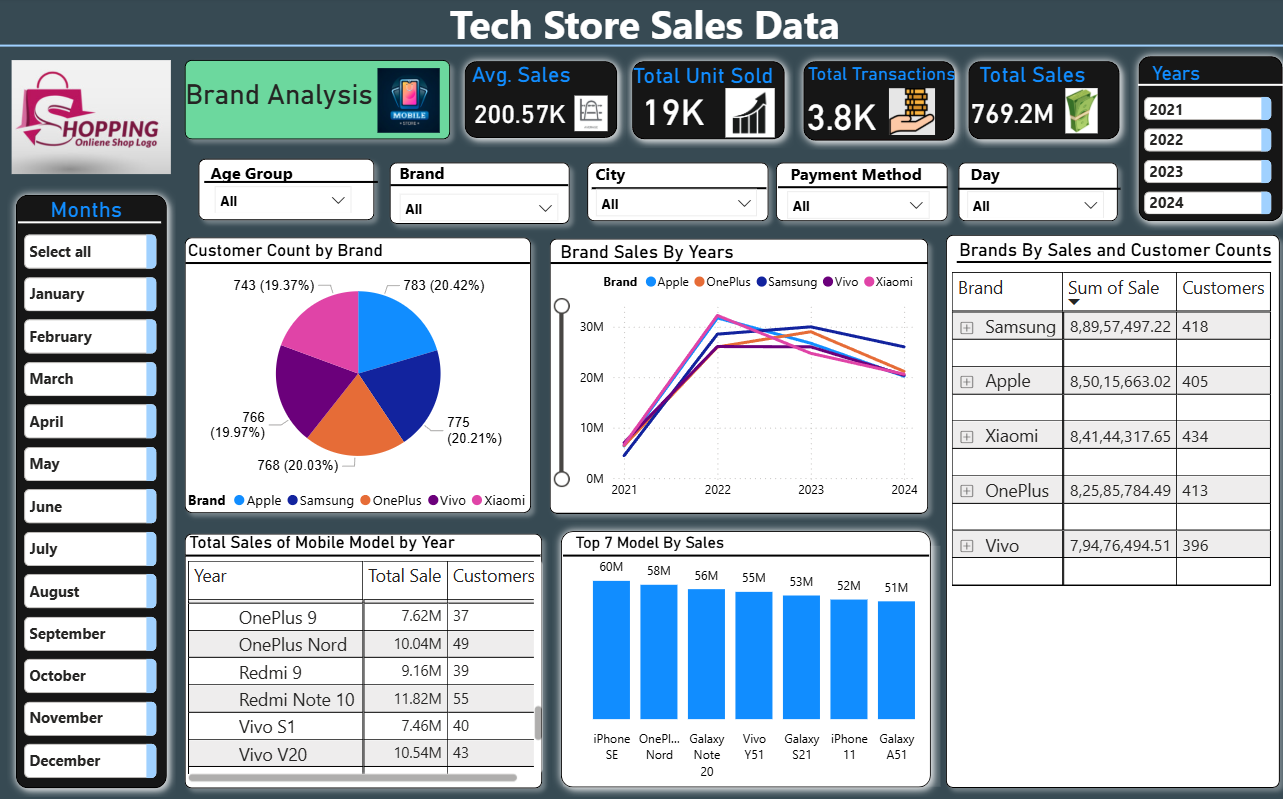

Layout of this report page (visuals, bound fields, positions):
{"tool":"powerbi","page":{"name":"Brand Analysis","canvas":[1280,800],"ordinal":2},"visuals":[{"type":"shape","title":"Tech Store Sales Data","box":[0,0,1280,53.7],"z":0},{"type":"shape","box":[0,27.4,1280,41.8],"z":1000},{"type":"image","box":[8.2,54.9,167.4,129],"z":2000},{"type":"shape","title":"Months","box":[8.2,186.6,167.4,605.1],"z":3000},{"type":"advancedSlicerVisual","fields":{"Values":["Mobile Sales Data.Date.Variation.Date Hierarchy.Month"]},"box":[20.6,230.5,141.3,551.6],"z":4000},{"type":"shape","title":"Months","box":[52.5,198,109.7,32.2],"z":5000},{"type":"shape","box":[20.3,214.7,142,15.5],"z":6000},{"type":"shape","box":[175.6,521.4,371.9,270.3],"z":7000},{"type":"shape","box":[175.9,53.2,280.8,96.8],"z":8000},{"type":"shape","box":[175.6,229.2,360.9,290.9],"z":9000},{"type":"shape","box":[189.5,151.3,192.2,79.1],"z":10000},{"type":"shape","title":"Months","box":[619,54.5,169.1,95.4],"z":11000},{"type":"shape","title":"Months","box":[1119.3,49.1,160.9,181.3],"z":12000},{"type":"card","fields":{"Values":["Sum(Mobile Sales Data.Units Sold)"]},"box":[627.1,77.7,81.8,66.8],"z":13000},{"type":"image","box":[703.5,85.9,80.4,58.6],"z":14000},{"type":"shape","title":"Total Unit Sold","box":[628.5,65.4,150,28.6],"z":15000},{"type":"shape","title":"Months","box":[788,54.5,167.7,96.8],"z":16000},{"type":"card","fields":{"Values":["Count(Mobile Sales Data.Transaction ID)"]},"box":[788,88.6,94.1,53.2],"z":17000},{"type":"image","box":[872.5,85.9,64.1,55.9],"z":18000},{"type":"shape","title":"Total Transactions","box":[801.6,65.4,150,21.8],"z":19000},{"type":"shape","title":"Months","box":[951.6,54.5,167.7,95.4],"z":20000},{"type":"card","fields":{"Values":["Sum(Mobile Sales Data.Sale)"]},"box":[951.6,87.3,105,53.2],"z":21000},{"type":"shape","title":"Total Sales","box":[970.7,64.1,150,21.8],"z":22000},{"type":"image","box":[1037.5,85.9,69.5,54.5],"z":23000},{"type":"slicer","fields":{"Values":["Mobile Sales Data.Age Group"]},"box":[204.5,177.2,155.4,36.8],"z":24000},{"type":"shape","title":"Months","box":[547.5,520.1,384.2,271.7],"z":25000},{"type":"shape","title":"Age Group","box":[210,162.2,151.3,24.5],"z":26000},{"type":"shape","box":[204.5,177.2,171.8,12.3],"z":27000},{"type":"shape","box":[379,154.1,196.3,79.1],"z":28000},{"type":"shape","title":"Brand","box":[396.7,162.2,150,24.5],"z":29000},{"type":"shape","box":[388.6,180,175.9,13.6],"z":30000},{"type":"slicer","fields":{"Values":["Mobile Sales Data.Brand"]},"box":[387.2,184.1,177.2,38.2],"z":31000},{"type":"shape","box":[574,154.1,197.7,76.3],"z":32000},{"type":"shape","title":"City","box":[591.7,163.6,151.3,24.5],"z":33000},{"type":"shape","box":[587.6,182.7,173.1,12.3],"z":34000},{"type":"slicer","fields":{"Values":["Mobile Sales Data.City"]},"box":[580.8,180,180,42.3],"z":35000},{"type":"shape","box":[760.7,154.1,188.1,76.3],"z":36000},{"type":"shape","title":"Payment Method","box":[783.9,163.6,150,24.5],"z":37000},{"type":"shape","box":[771.6,180,167.7,17.7],"z":38000},{"type":"slicer","fields":{"Values":["Mobile Sales Data.Payment Method"]},"box":[770.3,181.3,160.9,45],"z":39000},{"type":"shape","box":[940.7,154.1,175.9,76.3],"z":40000},{"type":"shape","title":"Day","box":[962.5,163.6,84.5,25.9],"z":41000},{"type":"shape","box":[950.2,184.1,160.9,10.9],"z":42000},{"type":"slicer","fields":{"Values":["Mobile Sales Data.Day_Name_Cleaned"]},"box":[948.9,181.3,155.4,36.8],"z":43000},{"type":"advancedSlicerVisual","fields":{"Values":["Mobile Sales Data.Year"]},"box":[1128.8,94.1,136.3,128.2],"z":44000},{"type":"shape","title":"Years","box":[1141.1,64.1,75,21.8],"z":45000},{"type":"shape","box":[1128.5,78.7,144.3,15.5],"z":46000},{"type":"pieChart","fields":{"Category":["Mobile Sales Data.Brand"],"Y":["CountNonNull(Mobile Sales Data.Customer Name)"]},"box":[182.5,258,347.2,258],"z":47000},{"type":"shape","title":"Customer Count by Brand","box":[188.1,239.9,302.7,23.2],"z":48000},{"type":"shape","box":[185.4,252.2,340.8,21.8],"z":49000},{"type":"shape","box":[929,226.4,348.5,565.4],"z":50000},{"type":"shape","title":"Brands By Sales and Customer Counts","box":[950.9,240.1,315.6,20.6],"z":51000},{"type":"shape","title":"Top 7 Model By Sales","box":[570.8,531,230.5,23.3],"z":52000},{"type":"shape","title":"Brand Analysis","box":[185.2,81,193.5,30.2],"z":53000},{"type":"clusteredColumnChart","fields":{"Y":["Sum(Mobile Sales Data.Sale)"],"Category":["Mobile Sales Data.Mobile Model"]},"box":[558.5,543.4,373.2,238.8],"z":54000},{"type":"pivotTable","fields":{"Rows":["Mobile Sales Data.Brand","Mobile Sales Data.Mobile Model"],"Values":["Sum(Mobile Sales Data.Sale)","Mobile Sales Data.Customers"]},"box":[938.6,267.6,336.2,514.6],"z":55000},{"type":"shape","box":[537.2,230.4,392.6,290.4],"z":56000},{"type":"shape","title":"Months","box":[452.6,54.5,169.1,94.1],"z":57000},{"type":"shape","title":"Avg. Sales","box":[469,64.1,150,28.6],"z":58000},{"type":"card","fields":{"Values":["Avg(Mobile Sales Data.Sale)"]},"box":[462.2,81.8,107.7,66.8],"z":59000},{"type":"image","box":[564.4,92.7,46.4,45],"z":60000},{"type":"shape","title":"Brand Sales By Years","box":[557.1,241.5,329.3,22],"z":61000},{"type":"lineChart","fields":{"Category":["Mobile Sales Data.Date.Variation.Date Hierarchy.Year"],"Y":["Sum(Mobile Sales Data.Sale)"],"Series":["Mobile Sales Data.Brand"]},"box":[546.7,261.8,368.1,244],"z":62000},{"type":"shape","box":[546.7,252.2,373.6,21.8],"z":63000},{"type":"shape","box":[948.2,256.6,311.5,12.3],"z":64000},{"type":"shape","box":[558.5,542,362.3,22],"z":65000},{"type":"pivotTable","fields":{"Rows":["Mobile Sales Data.Date.Variation.Date Hierarchy.Year","Mobile Sales Data.Mobile Model"],"Values":["Mobile Sales Data.Total Sale","Mobile Sales Data.Customers"]},"box":[182.5,553,360.9,229.2],"z":66000},{"type":"shape","title":"Total Sales of Mobile Model by Year","box":[189.4,529.7,286.8,23.3],"z":67000},{"type":"shape","box":[185.2,542,351.3,22],"z":68000},{"type":"image","box":[358.1,65.9,94.7,74.1],"z":69000}]}

Visuals, with their boxes in screenshot pixels (x1, y1, x2, y2), scaled from the page's 1280x800 canvas onto the 1283x799 screenshot:
"Tech Store Sales Data" shape: [left=0, top=0, right=1282, bottom=54]
shape: [left=0, top=27, right=1282, bottom=69]
image: [left=8, top=55, right=176, bottom=184]
"Months" shape: [left=8, top=186, right=176, bottom=791]
advancedSlicerVisual - Mobile Sales Data.Date.Variation.Date Hierarchy.Month: [left=21, top=230, right=162, bottom=781]
"Months" shape: [left=53, top=198, right=163, bottom=230]
shape: [left=20, top=214, right=163, bottom=230]
shape: [left=176, top=521, right=549, bottom=791]
shape: [left=176, top=53, right=458, bottom=150]
shape: [left=176, top=229, right=538, bottom=519]
shape: [left=190, top=151, right=383, bottom=230]
"Months" shape: [left=620, top=54, right=790, bottom=150]
"Months" shape: [left=1122, top=49, right=1282, bottom=230]
card - Sum(Mobile Sales Data.Units Sold): [left=629, top=78, right=711, bottom=144]
image: [left=705, top=86, right=786, bottom=144]
"Total Unit Sold" shape: [left=630, top=65, right=780, bottom=94]
"Months" shape: [left=790, top=54, right=958, bottom=151]
card - Count(Mobile Sales Data.Transaction ID): [left=790, top=88, right=884, bottom=142]
image: [left=875, top=86, right=939, bottom=142]
"Total Transactions" shape: [left=803, top=65, right=954, bottom=87]
"Months" shape: [left=954, top=54, right=1122, bottom=150]
card - Sum(Mobile Sales Data.Sale): [left=954, top=87, right=1059, bottom=140]
"Total Sales" shape: [left=973, top=64, right=1123, bottom=86]
image: [left=1040, top=86, right=1110, bottom=140]
slicer - Mobile Sales Data.Age Group: [left=205, top=177, right=361, bottom=214]
"Months" shape: [left=549, top=519, right=934, bottom=791]
"Age Group" shape: [left=210, top=162, right=362, bottom=186]
shape: [left=205, top=177, right=377, bottom=189]
shape: [left=380, top=154, right=577, bottom=233]
"Brand" shape: [left=398, top=162, right=548, bottom=186]
shape: [left=390, top=180, right=566, bottom=193]
slicer - Mobile Sales Data.Brand: [left=388, top=184, right=566, bottom=222]
shape: [left=575, top=154, right=774, bottom=230]
"City" shape: [left=593, top=163, right=745, bottom=188]
shape: [left=589, top=182, right=762, bottom=195]
slicer - Mobile Sales Data.City: [left=582, top=180, right=763, bottom=222]
shape: [left=762, top=154, right=951, bottom=230]
"Payment Method" shape: [left=786, top=163, right=936, bottom=188]
shape: [left=773, top=180, right=942, bottom=197]
slicer - Mobile Sales Data.Payment Method: [left=772, top=181, right=933, bottom=226]
shape: [left=943, top=154, right=1119, bottom=230]
"Day" shape: [left=965, top=163, right=1049, bottom=189]
shape: [left=952, top=184, right=1114, bottom=195]
slicer - Mobile Sales Data.Day_Name_Cleaned: [left=951, top=181, right=1107, bottom=218]
advancedSlicerVisual - Mobile Sales Data.Year: [left=1131, top=94, right=1268, bottom=222]
"Years" shape: [left=1144, top=64, right=1219, bottom=86]
shape: [left=1131, top=79, right=1276, bottom=94]
pieChart - Mobile Sales Data.Brand x CountNonNull(Mobile Sales Data.Customer Name): [left=183, top=258, right=531, bottom=515]
"Customer Count by Brand" shape: [left=189, top=240, right=492, bottom=263]
shape: [left=186, top=252, right=527, bottom=274]
shape: [left=931, top=226, right=1280, bottom=791]
"Brands By Sales and Customer Counts" shape: [left=953, top=240, right=1269, bottom=260]
"Top 7 Model By Sales" shape: [left=572, top=530, right=803, bottom=554]
"Brand Analysis" shape: [left=186, top=81, right=380, bottom=111]
clusteredColumnChart - Sum(Mobile Sales Data.Sale) x Mobile Sales Data.Mobile Model: [left=560, top=543, right=934, bottom=781]
pivotTable - Mobile Sales Data.Brand x Mobile Sales Data.Mobile Model: [left=941, top=267, right=1278, bottom=781]
shape: [left=538, top=230, right=932, bottom=520]
"Months" shape: [left=454, top=54, right=623, bottom=148]
"Avg. Sales" shape: [left=470, top=64, right=620, bottom=93]
card - Avg(Mobile Sales Data.Sale): [left=463, top=82, right=571, bottom=148]
image: [left=566, top=93, right=612, bottom=138]
"Brand Sales By Years" shape: [left=558, top=241, right=888, bottom=263]
lineChart - Mobile Sales Data.Date.Variation.Date Hierarchy.Year x Sum(Mobile Sales Data.Sale): [left=548, top=261, right=917, bottom=505]
shape: [left=548, top=252, right=922, bottom=274]
shape: [left=950, top=256, right=1263, bottom=269]
shape: [left=560, top=541, right=923, bottom=563]
pivotTable - Mobile Sales Data.Date.Variation.Date Hierarchy.Year x Mobile Sales Data.Mobile Model: [left=183, top=552, right=545, bottom=781]
"Total Sales of Mobile Model by Year" shape: [left=190, top=529, right=477, bottom=552]
shape: [left=186, top=541, right=538, bottom=563]
image: [left=359, top=66, right=454, bottom=140]
